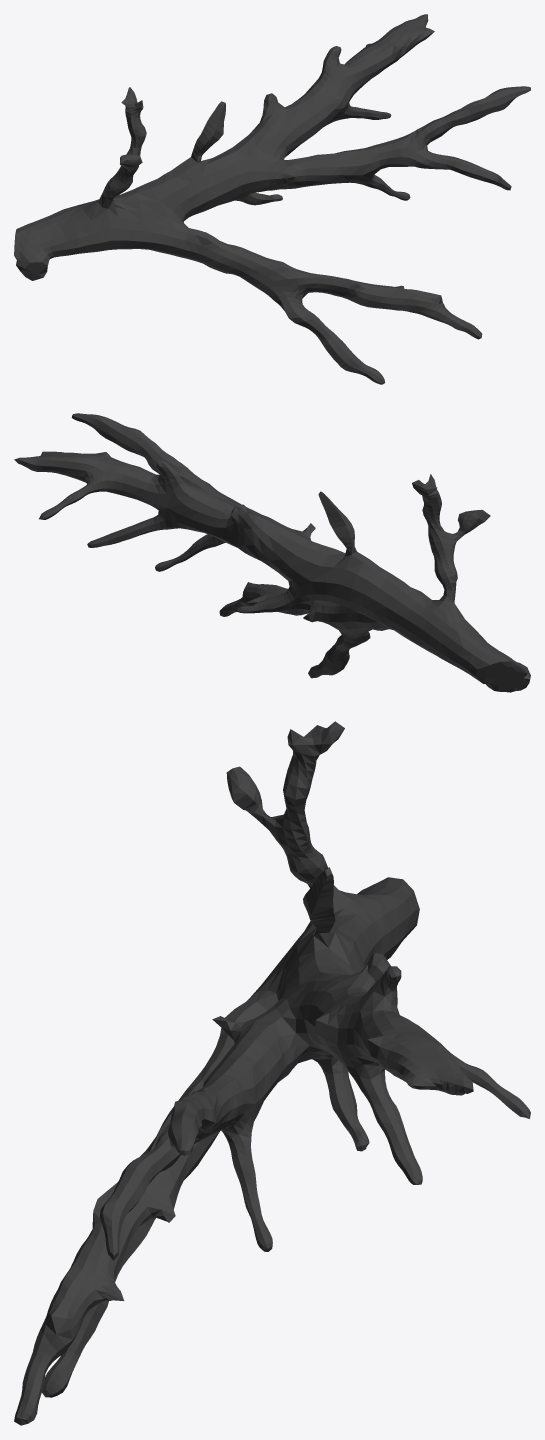
Rendered from Left_caudal_lobe_bronchus.glb.
3 views of the same model, one above another, from view 1: azimuth 30°, elevation 25°; view 2: azimuth 150°, elevation 25°; view 3: azimuth 270°, elevation 25° (orthographic). The views are drawn at different scales.
Visible parts, largest first — view 1: Left_caudal_lobe_bronchus; view 2: Left_caudal_lobe_bronchus; view 3: Left_caudal_lobe_bronchus.
Boxes of the visible parts, bbox=[...] form: Left_caudal_lobe_bronchus: bbox=[14, 14, 530, 384]; Left_caudal_lobe_bronchus: bbox=[14, 413, 530, 692]; Left_caudal_lobe_bronchus: bbox=[14, 721, 530, 1425].
Size of the model in its own units: 4.87 by 2.8 by 2.53.
Materials: 1 (1 with a texture image).
